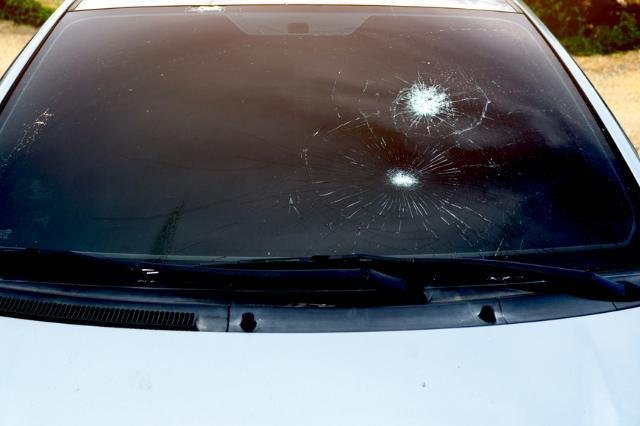Windshield: (0, 0, 640, 288)
